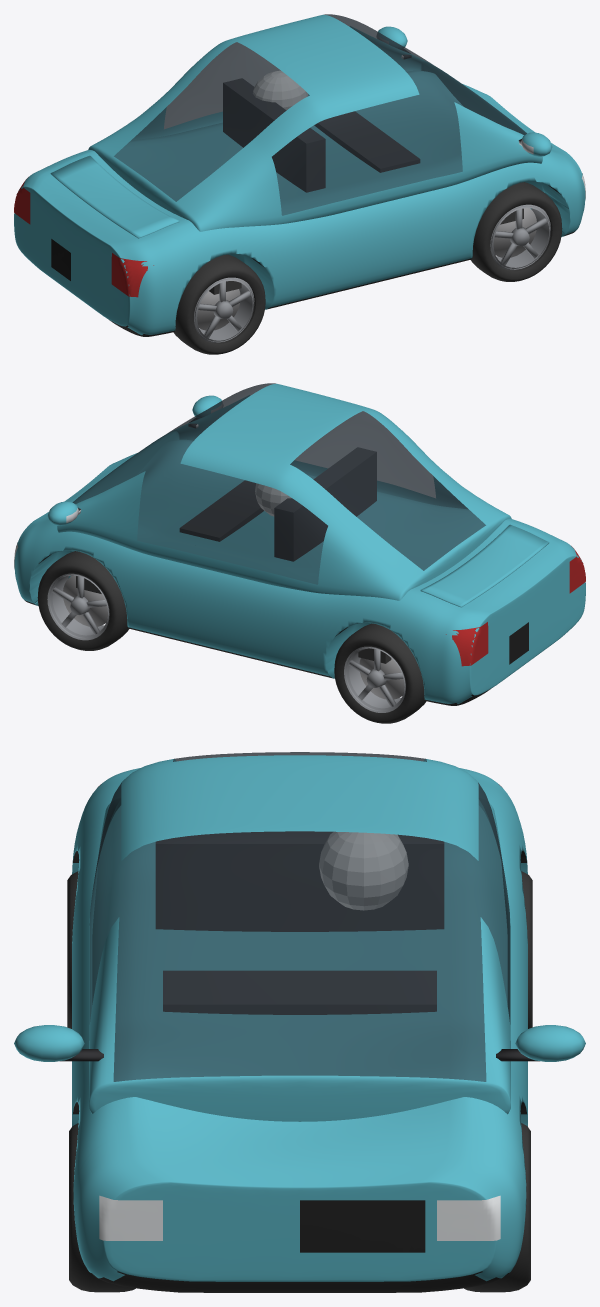
File: derby_rook_bubble_600.glb
3 views of the same model, one above another, from view 1: azimuth 30°, elevation 25°; view 2: azimuth 150°, elevation 25°; view 3: azimuth 270°, elevation 25° (orthographic). The views are drawn at different scales.
Parts seen in each view (by area): view 1: cabin, body, bumper_rear, interior, wheel_fr_spin, wheel_rr_spin, boot, bumper_front, mirror_r, mirror_l; view 2: cabin, body, bumper_rear, interior, wheel_fl_spin, wheel_rl_spin, boot, bumper_front, mirror_l, mirror_r; view 3: cabin, body, bumper_front, interior, mirror_l, mirror_r, wheel_fl_spin, wheel_fr_spin, wheel_rl_spin, wheel_rr_spin.
Part boxes in pixels (x1,y1,x2,y2): cabin: (88, 14, 542, 231); body: (38, 70, 568, 336); bumper_rear: (14, 171, 156, 336); interior: (223, 70, 420, 192); wheel_fr_spin: (471, 182, 562, 281); wheel_rr_spin: (173, 254, 265, 354); boot: (50, 155, 179, 238); bumper_front: (463, 84, 585, 235); mirror_r: (518, 132, 552, 156); mirror_l: (377, 26, 411, 59); cabin: (57, 383, 511, 600); body: (31, 439, 561, 705); bumper_rear: (443, 540, 585, 705); interior: (179, 447, 376, 561); wheel_fl_spin: (37, 551, 128, 650); wheel_rl_spin: (334, 623, 426, 723); boot: (420, 524, 549, 607); bumper_front: (14, 453, 136, 604); mirror_l: (47, 501, 81, 525); mirror_r: (188, 395, 222, 428); cabin: (89, 752, 510, 1121); body: (72, 773, 527, 1210); bumper_front: (74, 1136, 525, 1292); interior: (155, 831, 444, 1014); mirror_l: (496, 1025, 585, 1061); mirror_r: (14, 1025, 103, 1061); wheel_fl_spin: (464, 1123, 530, 1292); wheel_fr_spin: (69, 1123, 135, 1292); wheel_rl_spin: (521, 871, 532, 1028); wheel_rr_spin: (67, 871, 78, 1028).
Size of the model in its own units: 2.86 by 1.3 by 1.78.
